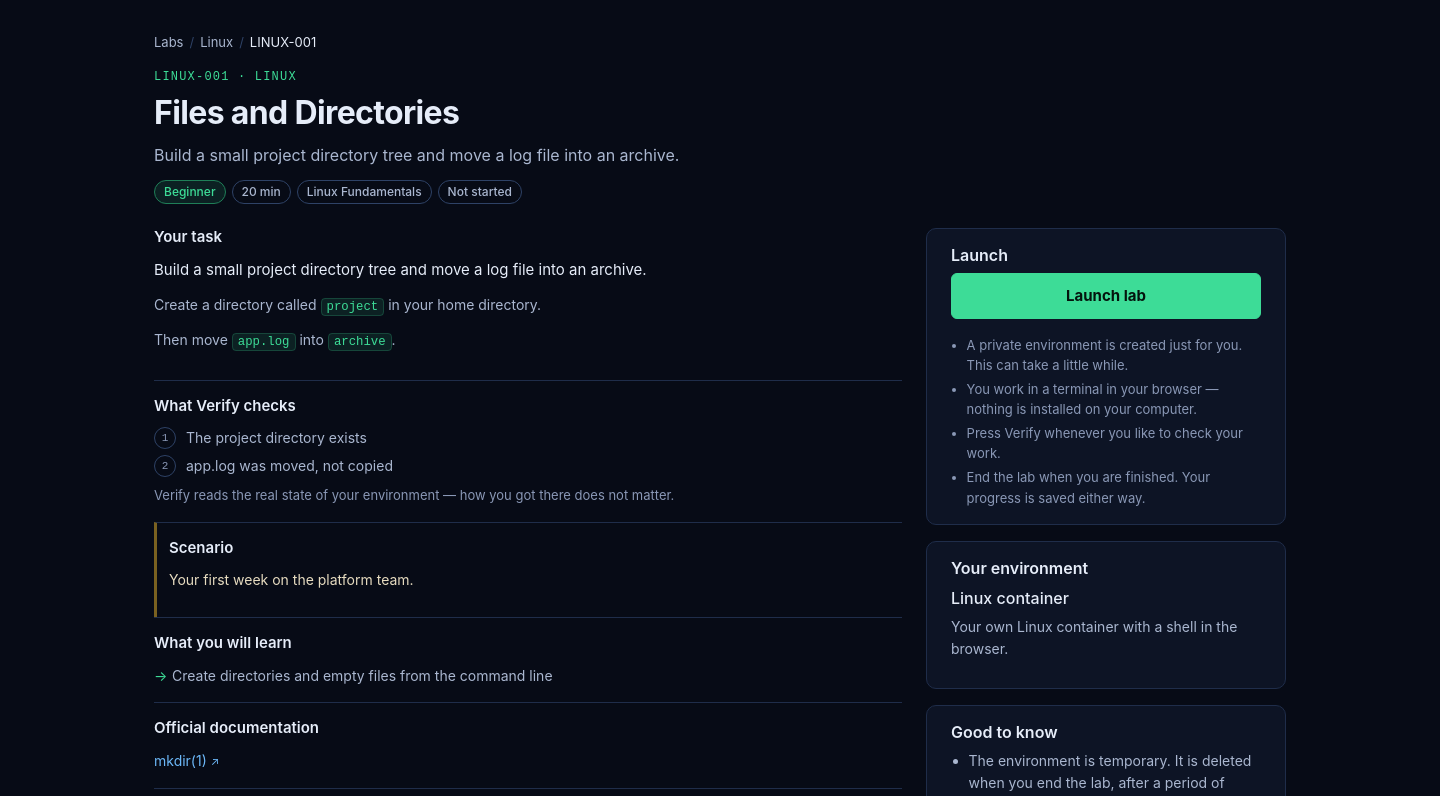
Scenario: before launch › finds the lab a start created when the response itself was lost (a proxy timeout)
expect the heading "Files and Directories" is shown: met, box x1=154 y1=93 x2=459 y2=132
Click the button "Launch lab" at (1106, 296), box x1=951 y1=272 x2=1261 y2=318
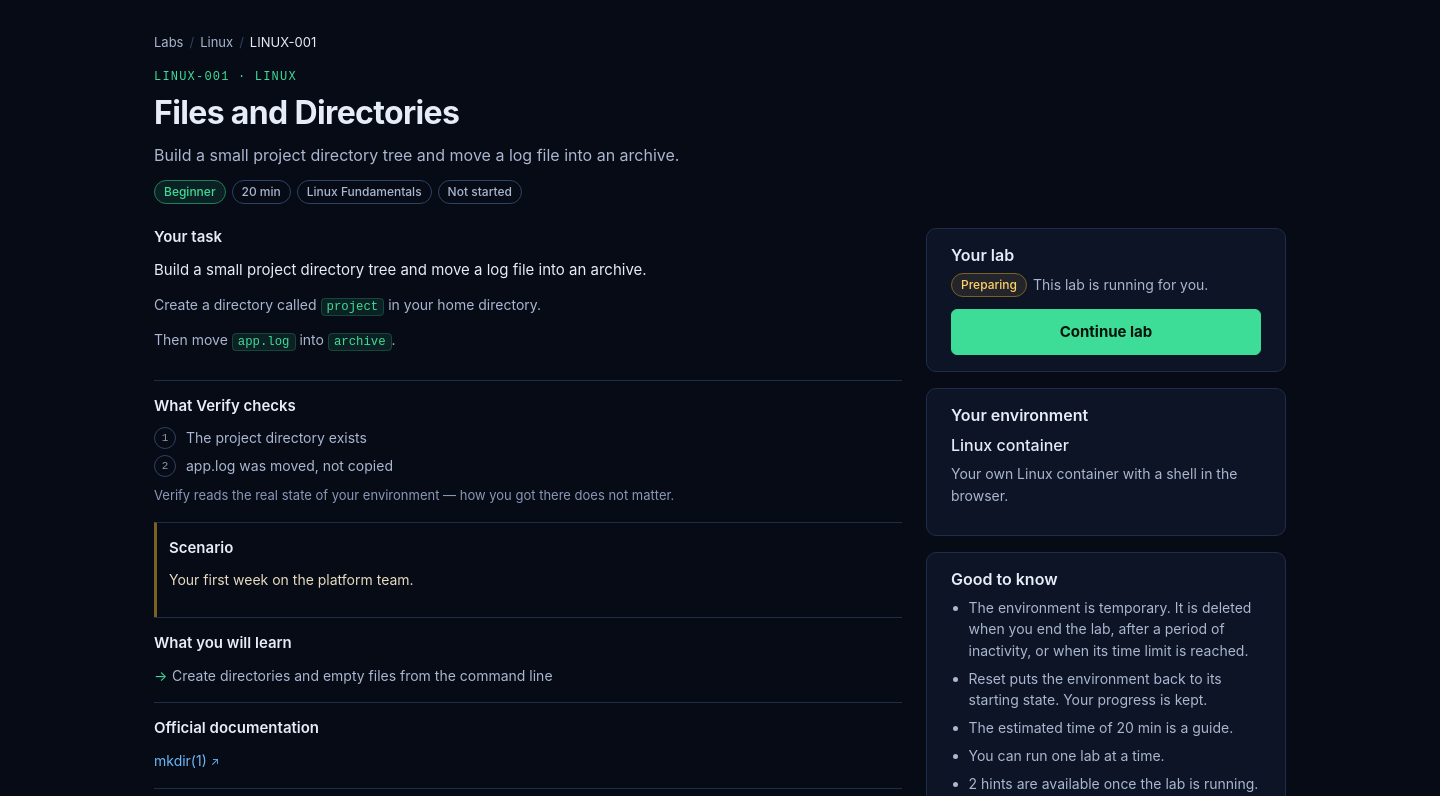
expect the link "Continue lab" is shown: met, box x1=951 y1=308 x2=1261 y2=354
expect the button "Launch lab" is gone: met
